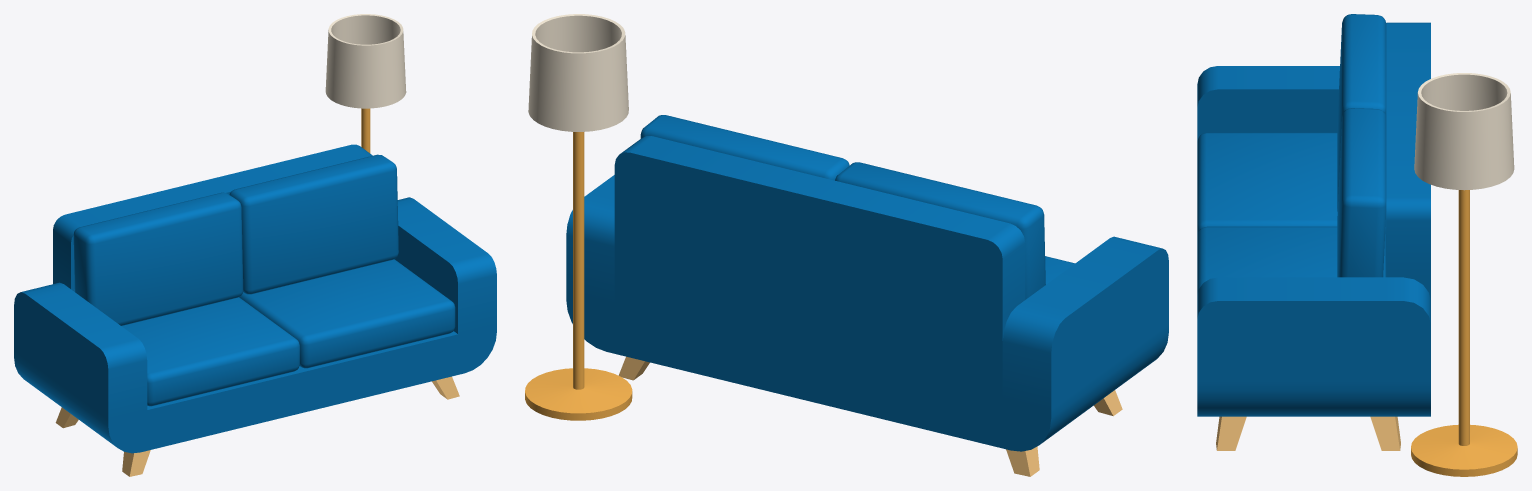
The model's file is couch_and_lamp.glb.
3 renders of one model, left to right at view 1: azimuth 30°, elevation 25°; view 2: azimuth 150°, elevation 25°; view 3: azimuth 270°, elevation 25°, orthographic. The views are drawn at different scales.
Visible parts, largest first — view 1: Cube.239; view 2: Cube.239; view 3: Cube.239.
Boxes of the visible parts, <box> form: Cube.239: <box>14,14,496,476</box>; Cube.239: <box>525,14,1168,476</box>; Cube.239: <box>1197,14,1517,476</box>.
Size of the model in its own units: 2.28 by 1.58 by 1.27.
1 material, 1 textured.
